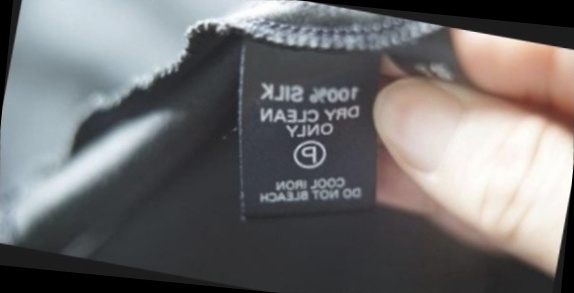dry_clean_any_solvent_except_trichloroethylene: (286, 132, 331, 175)
